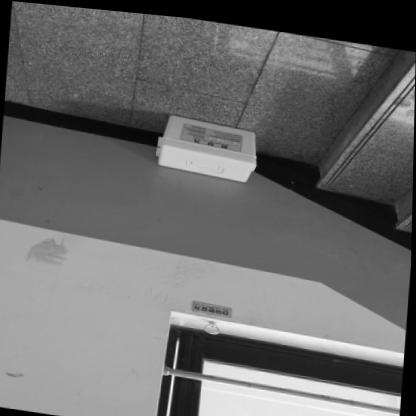DDL: (155, 106, 257, 177)
